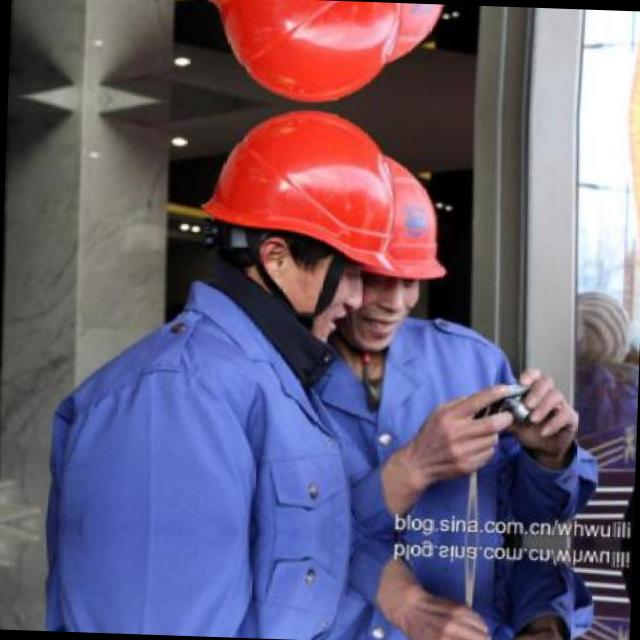helmet: (184, 105, 394, 345), (334, 145, 452, 358), (192, 0, 398, 105), (344, 1, 458, 74)
